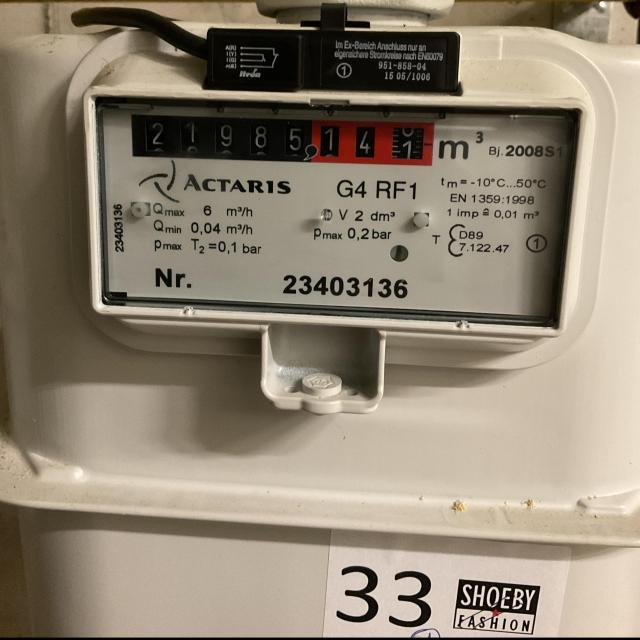gaz_meter: (96, 96, 563, 320)
indication: (127, 106, 436, 165)
